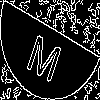M: (25, 25, 66, 84)
